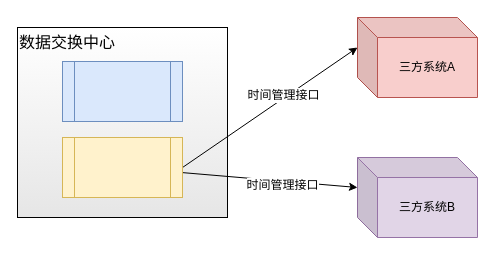
The diagram is 495 pixels wide and 255 high, and some of its shapes have lost their labels. Here are the shapes that lost their labels. From the top down, the box of each, then its label:
(62, 60, 182, 122): 核心模块
(62, 136, 182, 198): 统一时间管理
